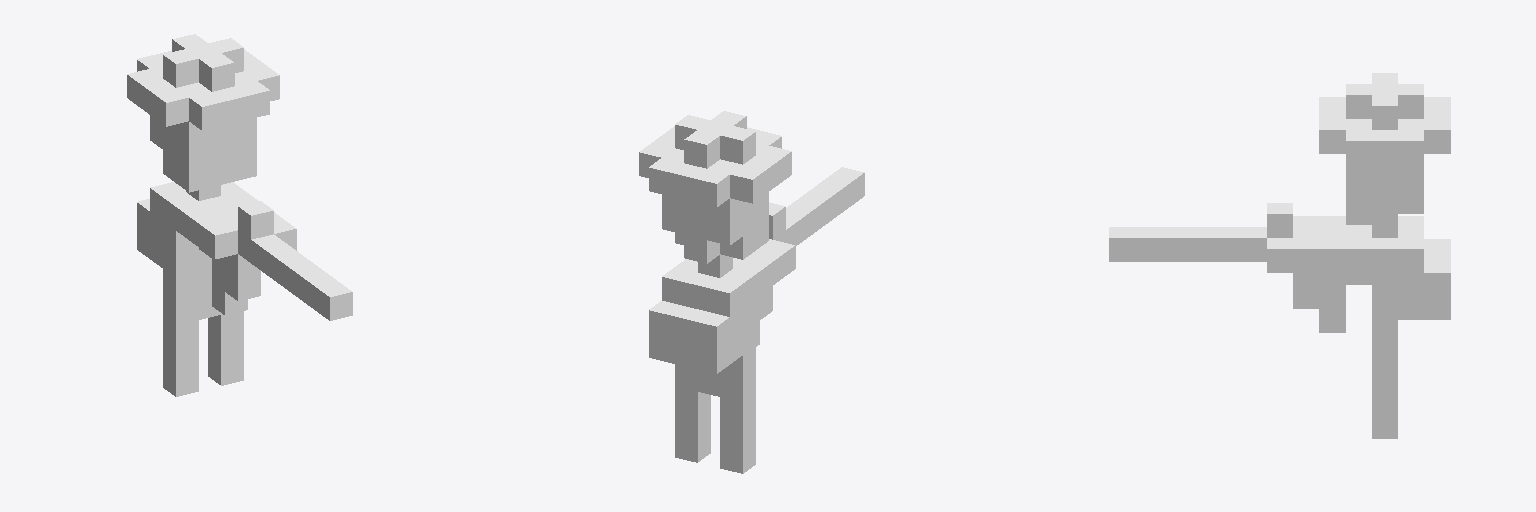
The model's file is Savanna3.obj.
3 renders of one model, left to right at view 1: azimuth 30°, elevation 25°; view 2: azimuth 150°, elevation 25°; view 3: azimuth 270°, elevation 25°, orthographic.
Size of the model in its own units: 5 by 14 by 13.